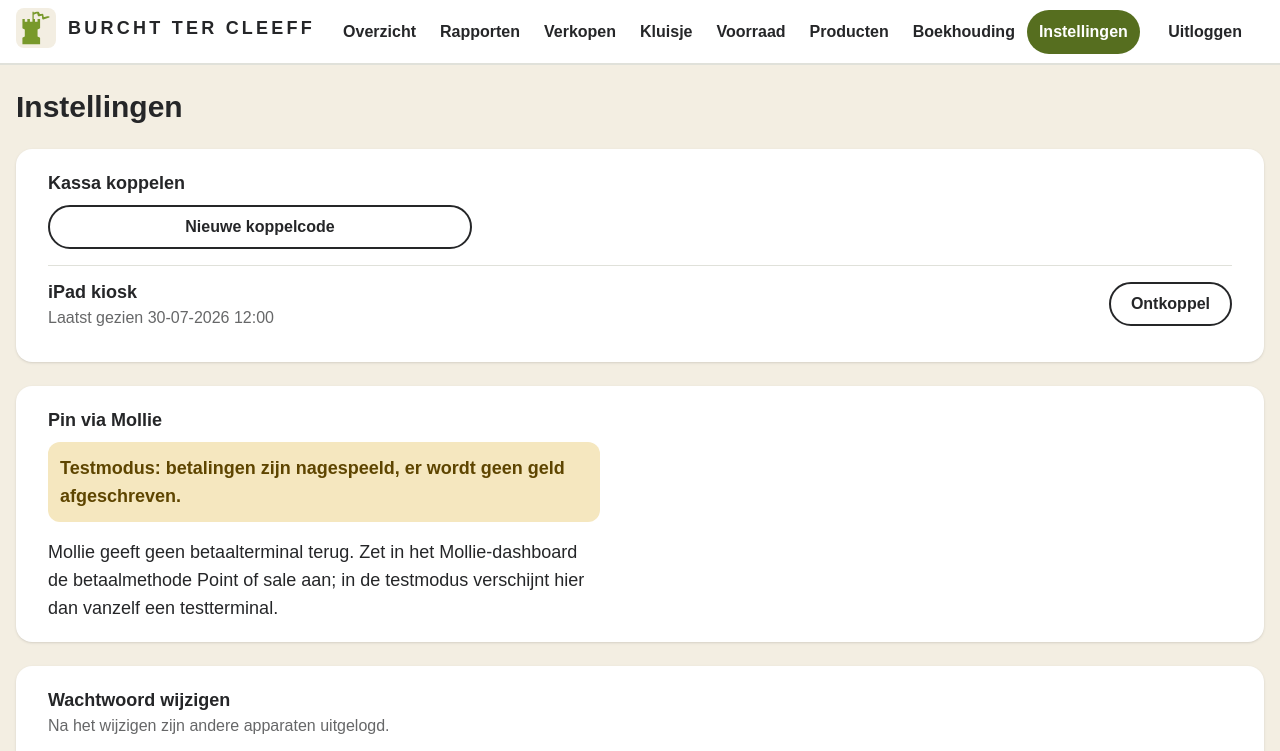
Test case: shows the kassa in the list once it has been paired with the code
Expected: the text "iPad kiosk" is shown, 48,278 -> 137,306
Click the button "Nieuwe koppelcode". click: x=260, y=227
box: 48,205 -> 472,249
Wait 5000 ms
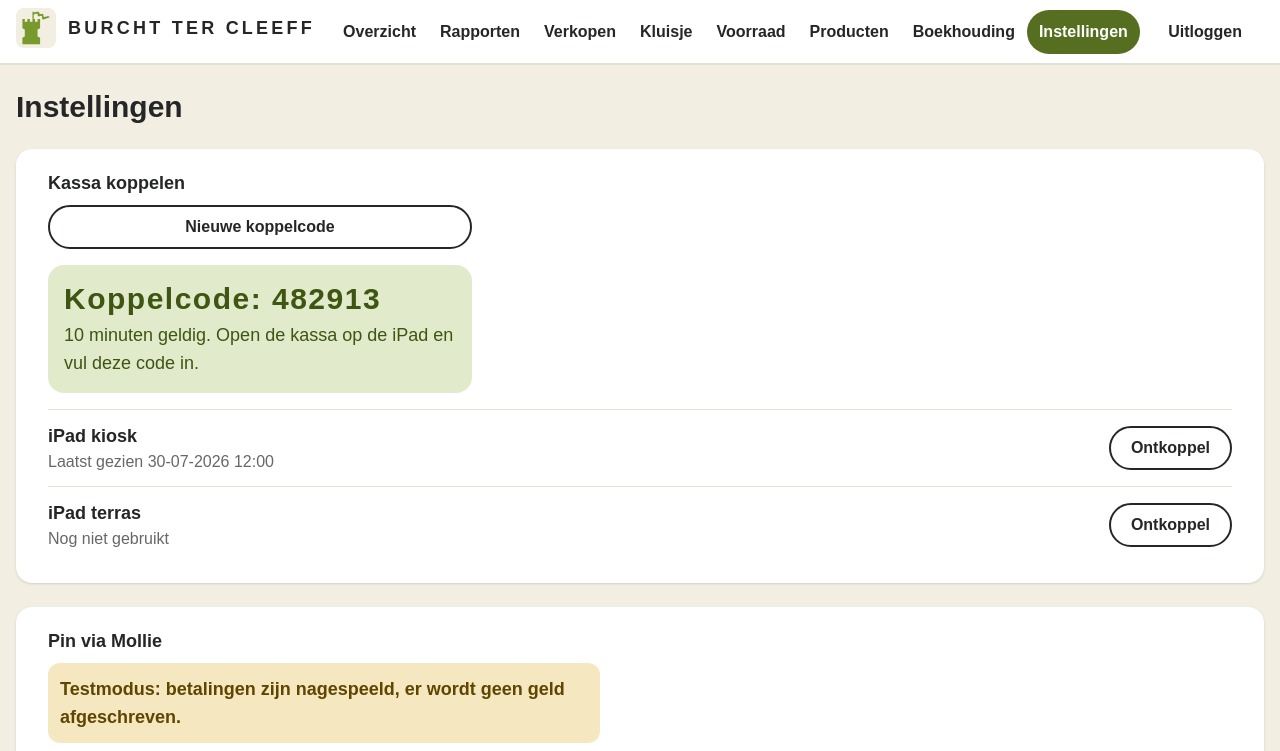
Expected: the text "Koppelcode: 482913" is shown, 64,282 -> 381,315
Expected: the text "iPad terras" is shown, 48,499 -> 141,527
